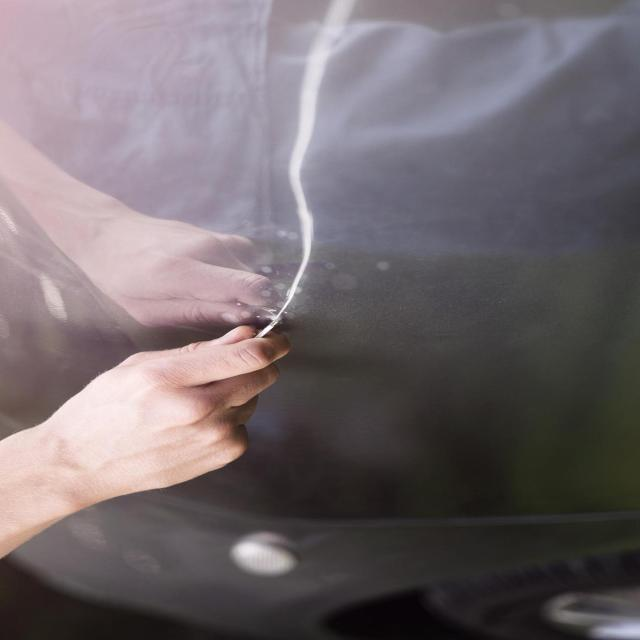scratch: (266, 65, 330, 332)
